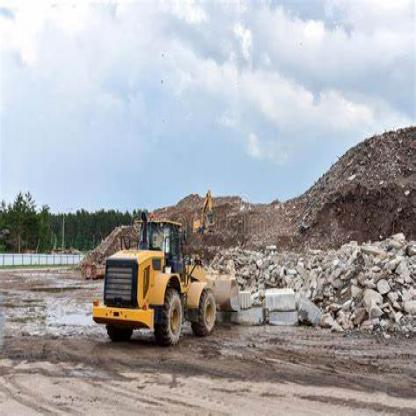bull_dozer/loader/grader: (98, 201, 252, 355)
